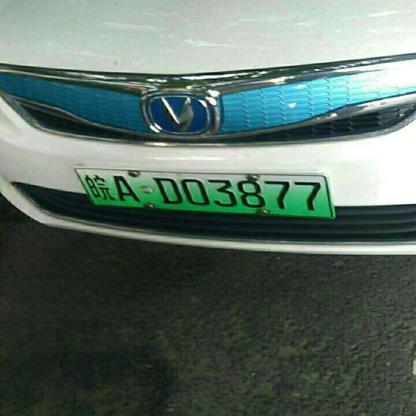lp: (75, 170, 332, 216)
